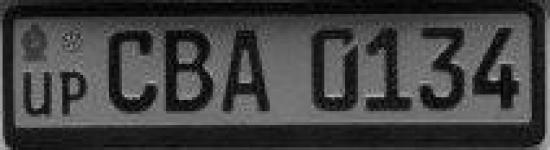0: (308, 20, 361, 115)
1: (361, 23, 414, 115)
3: (415, 19, 468, 113)
4: (469, 20, 524, 115)
A: (218, 23, 272, 121)
B: (160, 21, 218, 121)
C: (102, 22, 161, 120)
P: (55, 67, 93, 122)
U: (20, 67, 56, 121)
